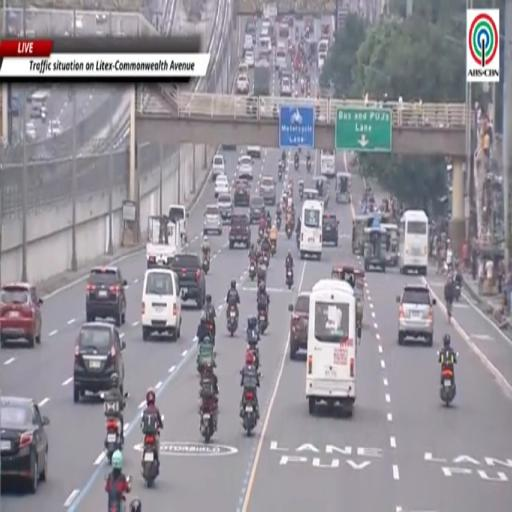bus: (306, 279, 360, 414), (399, 211, 428, 275), (300, 200, 323, 260), (320, 150, 336, 178)
car: (0, 396, 49, 493), (73, 322, 125, 403), (141, 268, 181, 341), (0, 282, 43, 347), (86, 266, 127, 326), (397, 284, 435, 346), (171, 253, 205, 309), (289, 292, 309, 360), (229, 214, 250, 248), (204, 204, 222, 234), (322, 214, 338, 246), (259, 176, 276, 204), (237, 155, 253, 181), (234, 180, 250, 206), (250, 196, 265, 223), (218, 195, 233, 221), (215, 175, 229, 198), (213, 154, 225, 180), (47, 120, 62, 137), (236, 75, 249, 94), (280, 77, 291, 97), (245, 21, 256, 41), (303, 188, 321, 200), (243, 35, 254, 54), (244, 50, 255, 68), (26, 122, 37, 140), (246, 146, 261, 158), (318, 53, 327, 71), (237, 62, 248, 75), (260, 23, 269, 38), (96, 13, 107, 24)
jeepney: (331, 264, 365, 327), (364, 226, 386, 271), (352, 215, 372, 255), (381, 223, 398, 266), (336, 172, 351, 203)
motorcycle: (142, 435, 159, 487), (104, 419, 122, 462), (200, 399, 216, 443), (243, 390, 256, 436), (197, 344, 216, 375), (440, 367, 455, 406), (108, 486, 127, 511), (227, 304, 238, 337), (247, 341, 259, 370), (258, 310, 267, 334), (454, 275, 461, 301), (286, 267, 293, 290), (249, 261, 256, 280), (202, 255, 209, 274), (454, 283, 461, 301), (262, 251, 269, 267), (258, 228, 264, 242), (298, 184, 303, 200), (286, 226, 292, 239), (271, 240, 276, 255), (276, 215, 281, 230), (296, 232, 300, 248), (278, 167, 282, 182), (294, 158, 299, 170), (307, 159, 311, 172)
truck: (146, 216, 182, 268), (254, 60, 271, 95)
